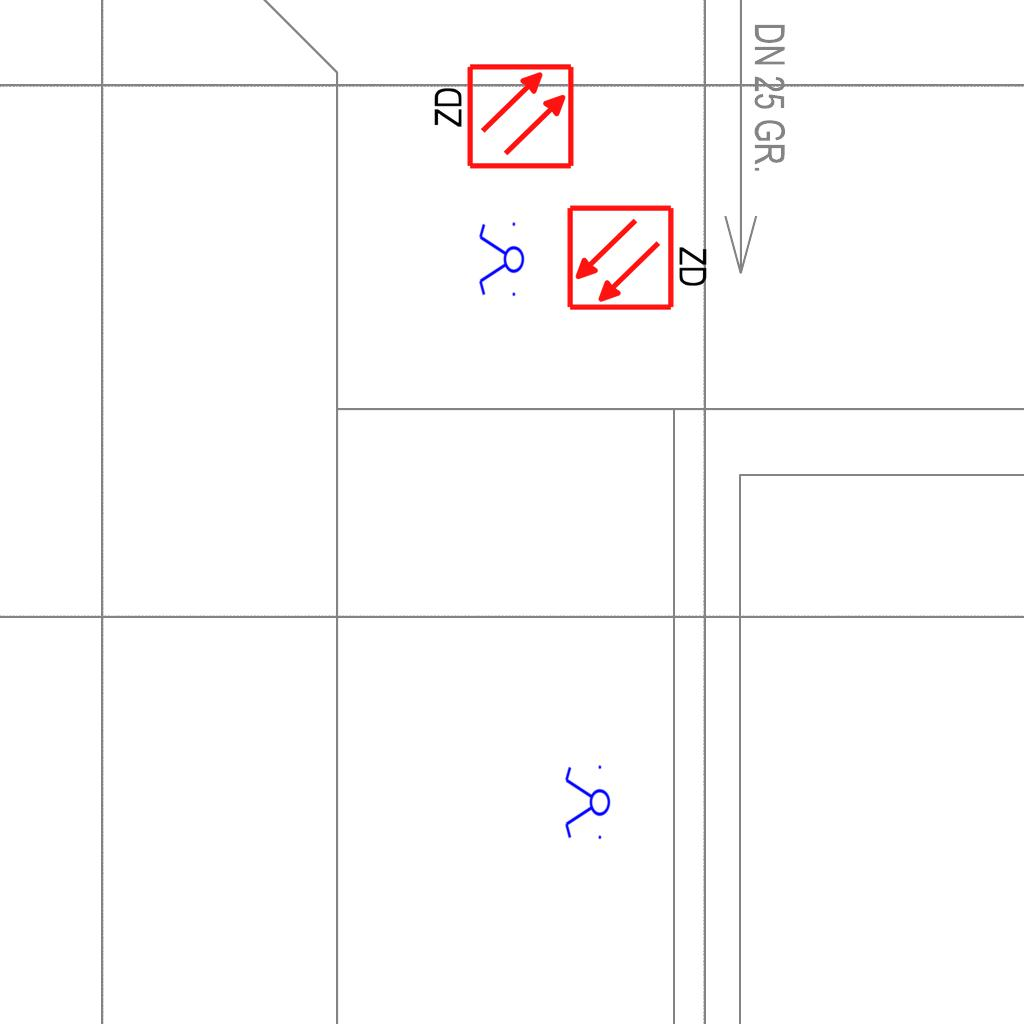Serienschalter: (477, 218, 525, 302), (563, 761, 611, 845)
ZD_Melder_in_Zwischendecke_mit_Revisionsoeffnung_mind_40_x_40_cm: (565, 199, 714, 313), (427, 61, 576, 175)
